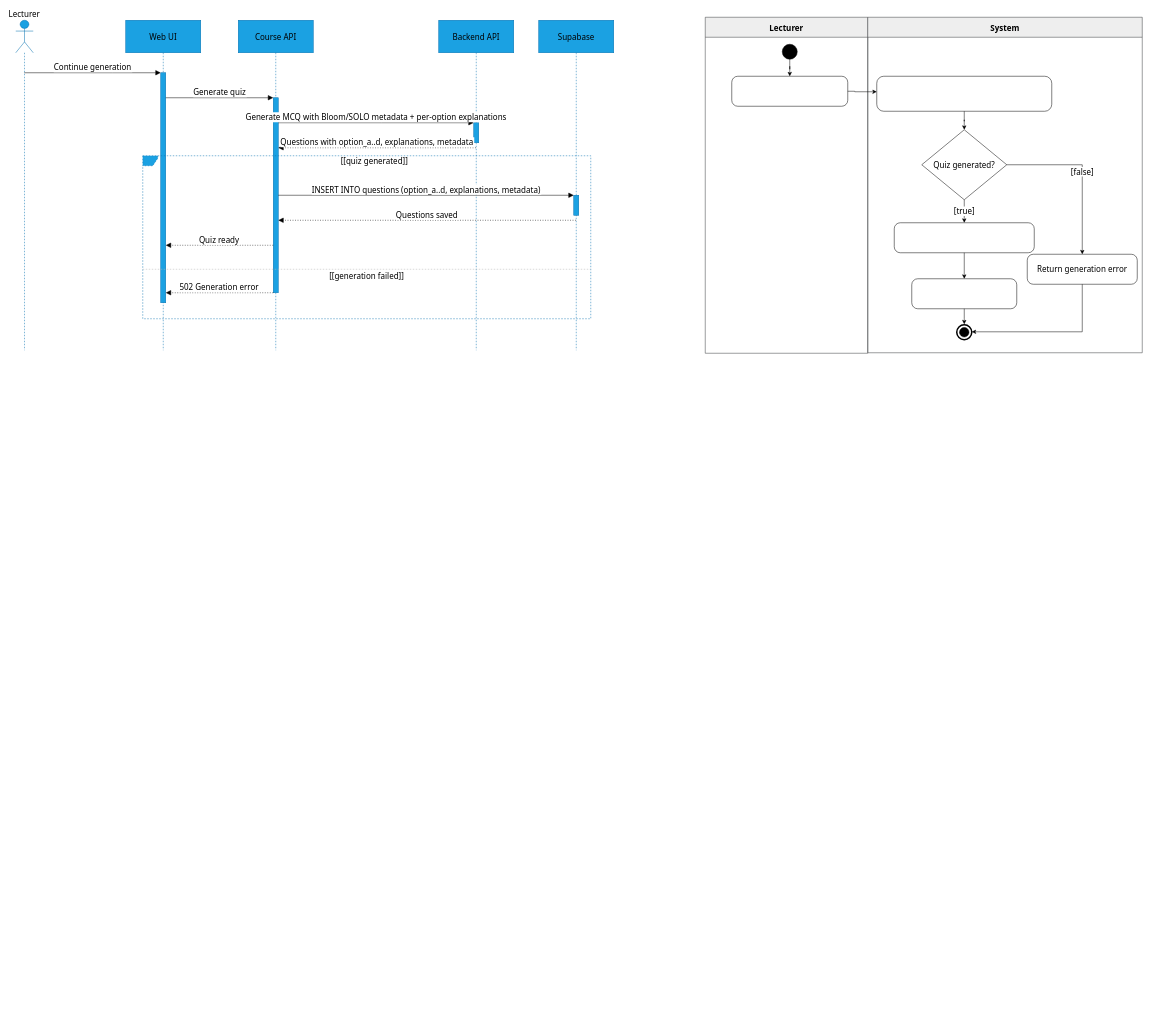
Some shapes in this 1151 by 1029 pixel diagram are drawn without their labels. Here are the shapes that lost their labels. From the top down, the box of each, then its label:
(731, 76, 848, 106): Proceed with mini-course generation
(876, 76, 1052, 111): Generate quiz questions and options (MCQ)
(142, 155, 591, 319): alt
(894, 222, 1034, 253): Store quiz questions & options
(911, 278, 1017, 309): Return quiz for preview
